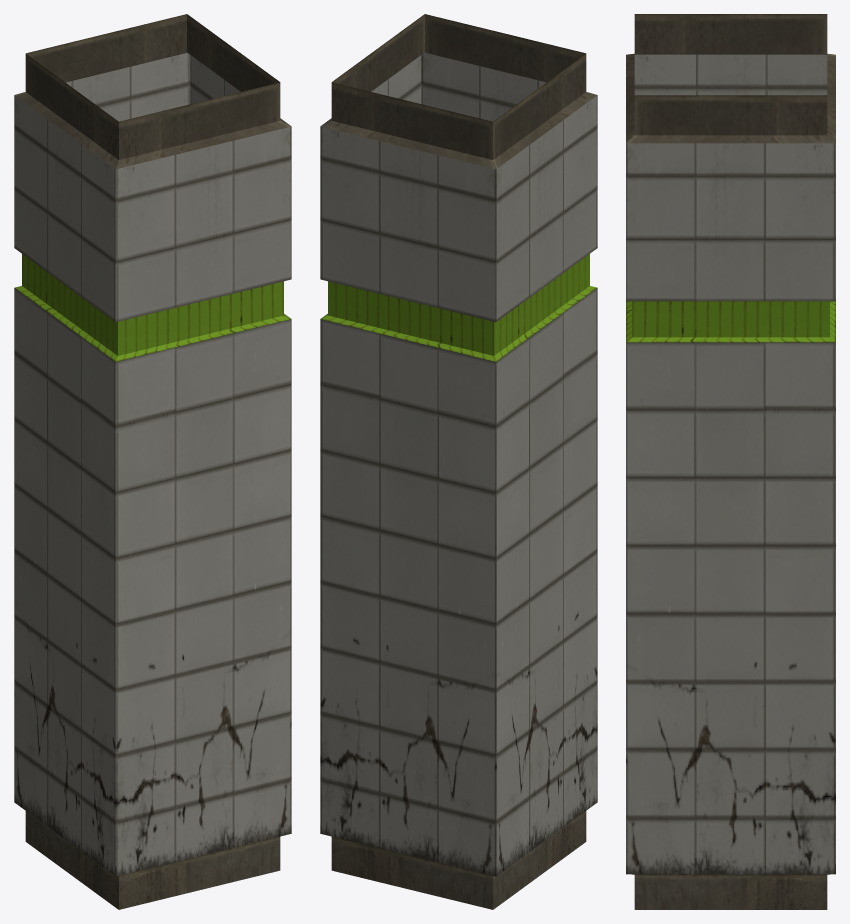
The model's file is CementPiller.fbx.
3 renders of one model, left to right at view 1: azimuth 30°, elevation 25°; view 2: azimuth 150°, elevation 25°; view 3: azimuth 270°, elevation 25°, orthographic. The views are drawn at different scales.
Visible parts, largest first — view 1: CementPiller; view 2: CementPiller; view 3: CementPiller.
Boxes of the visible parts, left/top/right/bottom form: CementPiller: left=14, top=14, right=291, bottom=909; CementPiller: left=320, top=14, right=597, bottom=909; CementPiller: left=626, top=14, right=835, bottom=909.
Size of the model in its own units: 85.43 by 366 by 85.43.
